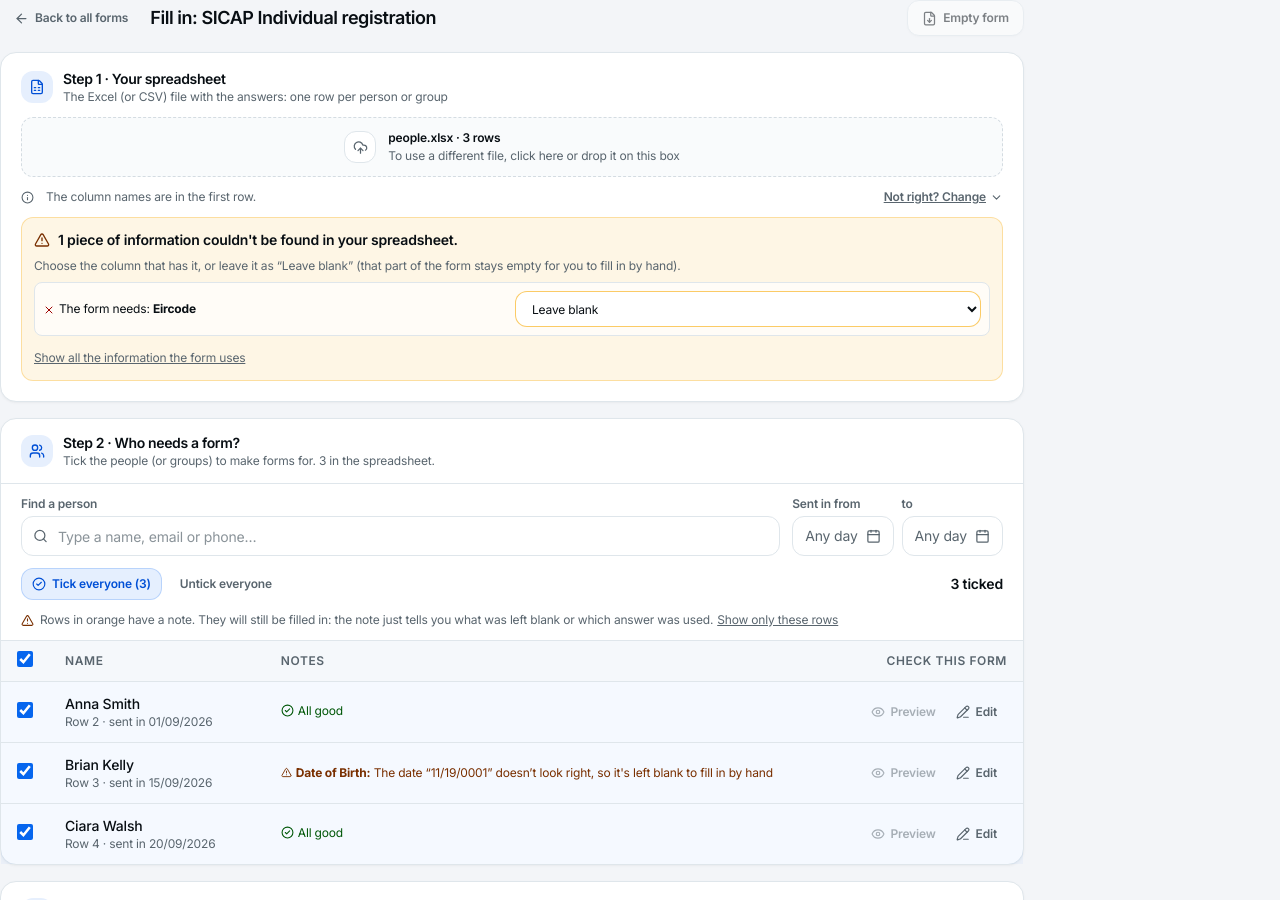
Test: FillView › finds people by name and ticks only them
This screenshot has width=1280, height=900.
Click the button "Untick everyone" at (226, 584), box [170, 568, 282, 600]
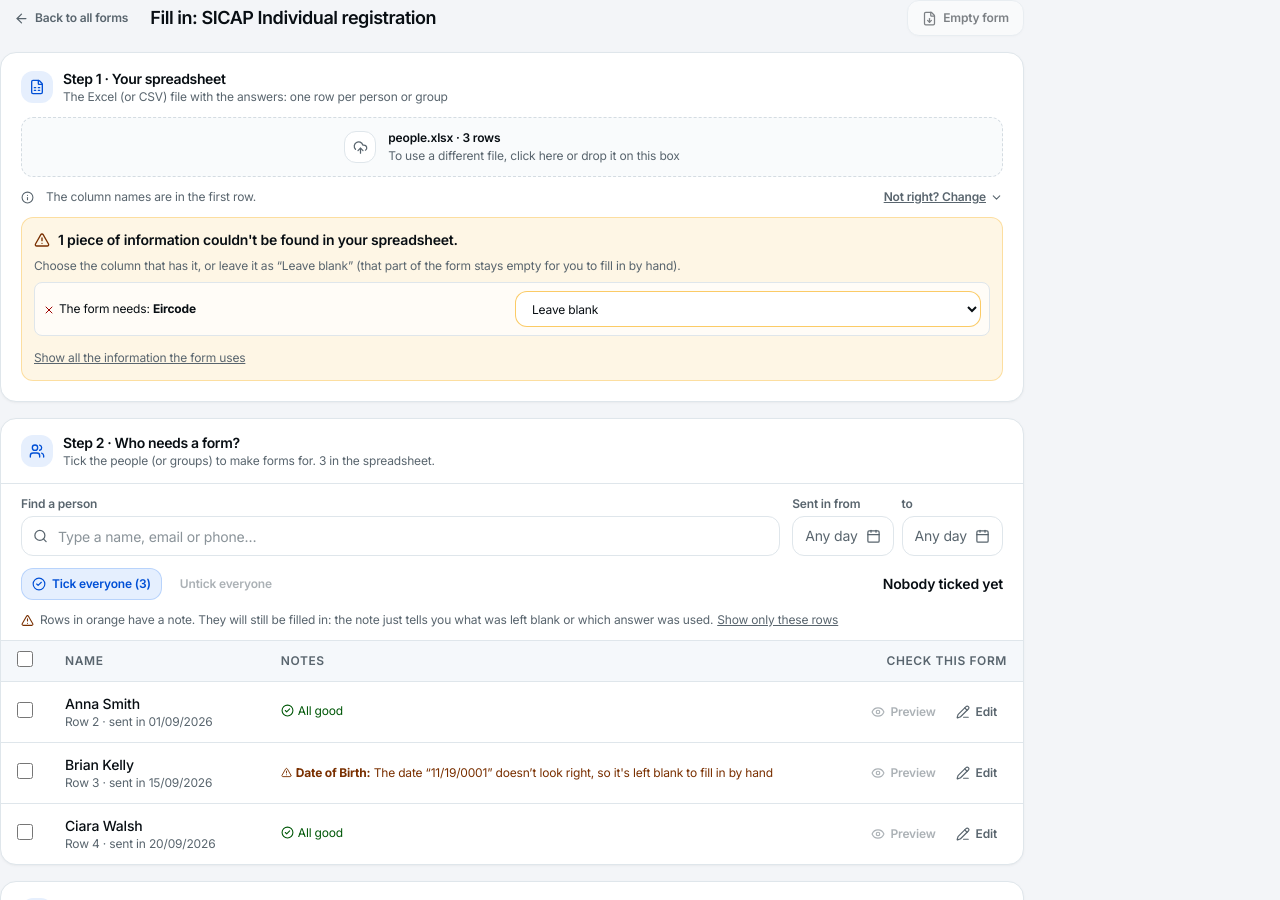
Type "kelly" into the search field named "Search rows" at (401, 536), box [21, 516, 780, 556]
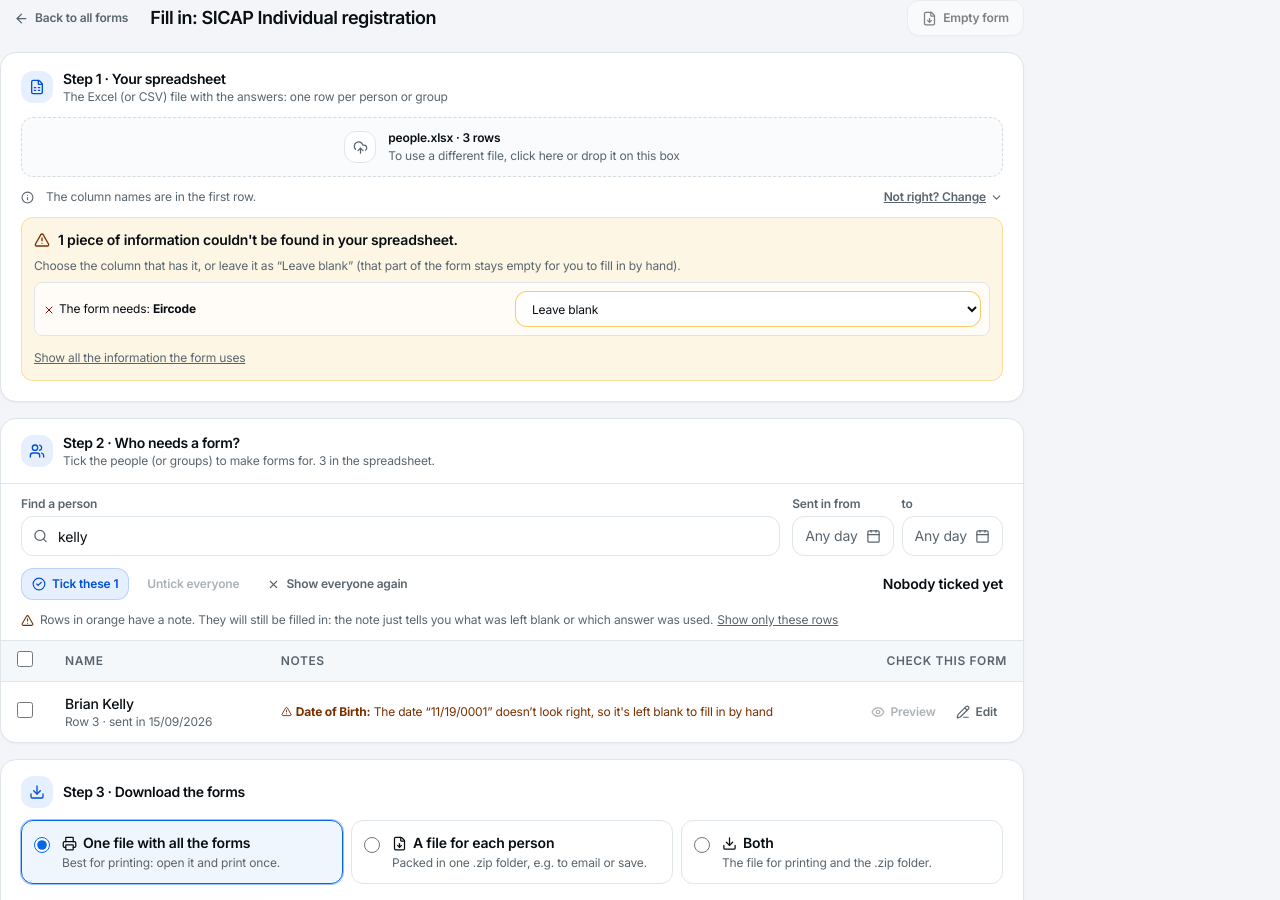
Now the text "Anna Smith" is gone
Click the button "Tick these 1" at (75, 584), box [21, 568, 129, 600]
(page scrolled)
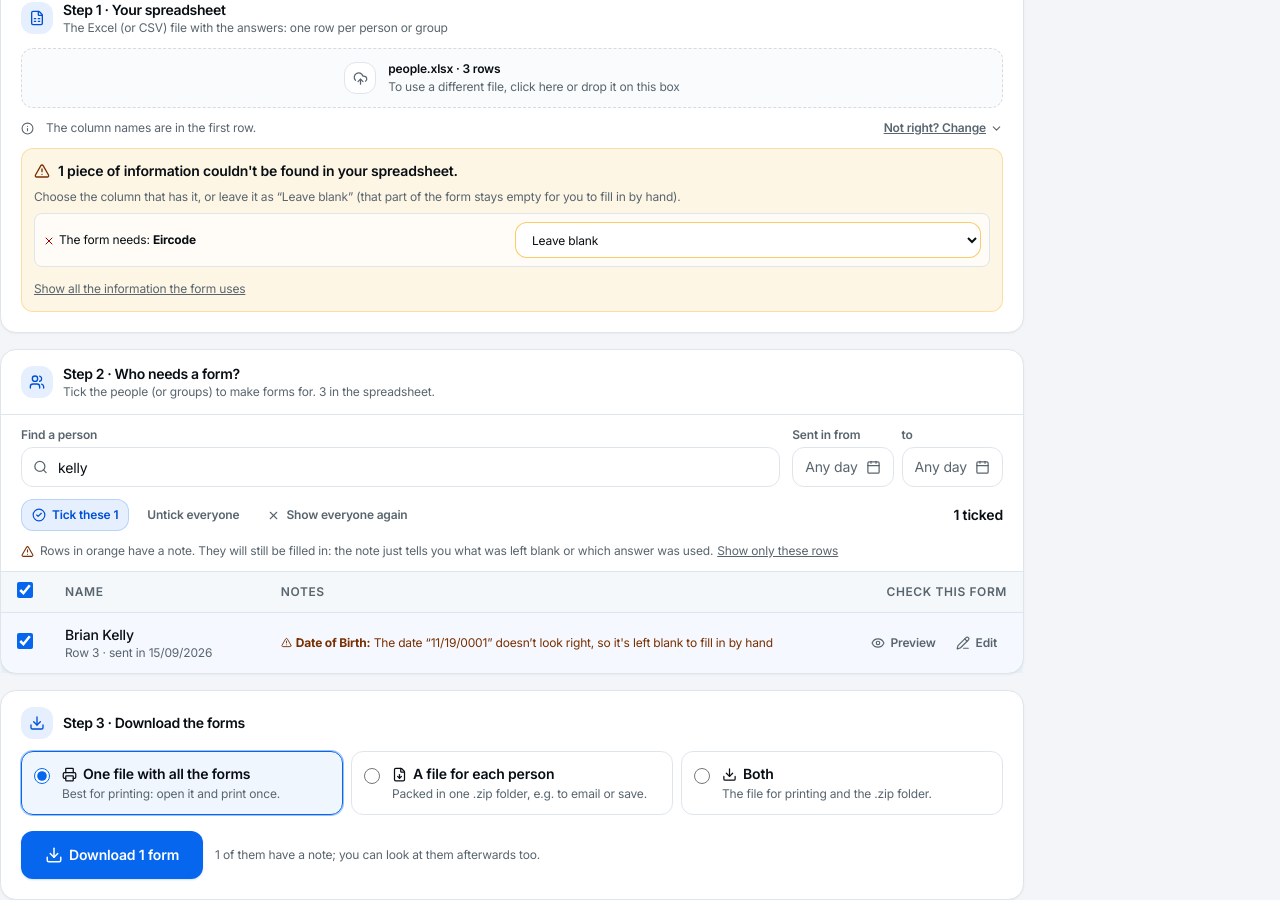
Now the button "Download 1 form" is shown, box [21, 831, 203, 879]
